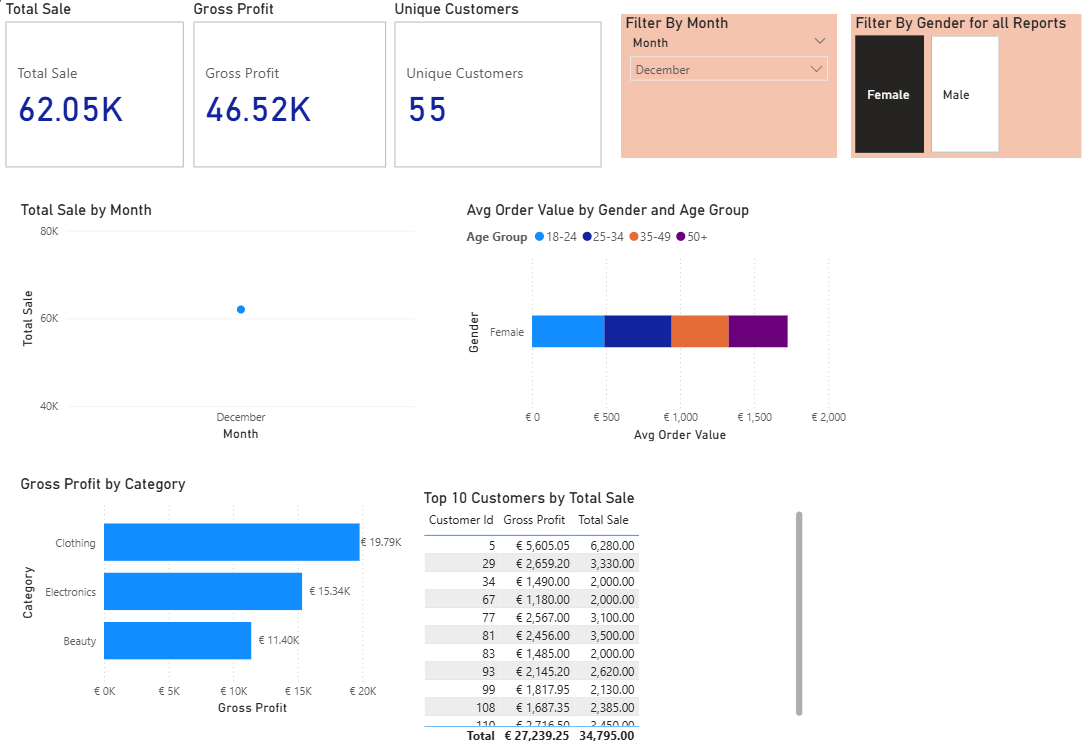

This screenshot's page, from the dashboard's own definition file:
{"tool":"powerbi","page":{"name":"Page 1","canvas":[1600,900],"ordinal":0},"visuals":[{"type":"lineChart","fields":{"Y":["Catergory.Total Sale"],"Category":["Date.Month"]},"box":[32,256,448,272],"z":0},{"type":"actionButton","box":[0,0,100,40],"z":1000},{"type":"barChart","fields":{"Category":["Catergory.Category"],"Y":["Catergory.Gross Profit"]},"box":[48,560,432,272],"z":2000},{"type":"tableEx","fields":{"Values":["Customers.Customer Id","Catergory.Gross Profit","Catergory.Total Sale"]},"box":[480,576,432,288],"z":3000},{"type":"donutChart","fields":{"Category":["Customers.Gender"],"Y":["Catergory.Total Sale"]},"box":[896,592,336,288],"z":4000},{"type":"barChart","fields":{"Category":["Customers.Gender"],"Y":["Catergory.Avg Order Value"],"Series":["Retail Sales Data.Age Group"]},"box":[528,256,432,272],"z":5000},{"type":"cardVisual","title":"Total Revenue","fields":{"Data":["Catergory.Total Sale"]},"box":[16,32,272,192],"z":6000},{"type":"cardVisual","title":"Gross Profit","fields":{"Data":["Catergory.Gross Profit"]},"box":[304,32,272,192],"z":7000},{"type":"cardVisual","title":"Unique Customers","fields":{"Data":["Catergory.Unique Customer"]},"box":[592,32,272,192],"z":8000},{"type":"advancedSlicerVisual","title":"Filter By Gender for all Reports","fields":{"Values":["Customers.Gender"]},"box":[1247.8,64.4,352,160],"z":9000},{"type":"slicer","title":"Filter By Month","fields":{"Values":["Date.Month"]},"box":[879.8,64.4,336,160],"z":10000}]}

Visuals, with their boxes on the page's 1600x900 design canvas (x1, y1, x2, y2). These are canvas units, not pixel positions in the 1089x749 screenshot, which may show the page scaled, cropped or inside an application window:
lineChart - Catergory.Total Sale x Date.Month: [32,256,480,528]
actionButton: [0,0,100,40]
barChart - Catergory.Category x Catergory.Gross Profit: [48,560,480,832]
tableEx - Customers.Customer Id x Catergory.Gross Profit: [480,576,912,864]
donutChart - Customers.Gender x Catergory.Total Sale: [896,592,1232,880]
barChart - Customers.Gender x Catergory.Avg Order Value: [528,256,960,528]
"Total Revenue" cardVisual: [16,32,288,224]
"Gross Profit" cardVisual: [304,32,576,224]
"Unique Customers" cardVisual: [592,32,864,224]
"Filter By Gender for all Reports" advancedSlicerVisual: [1248,64,1600,224]
"Filter By Month" slicer: [880,64,1216,224]
